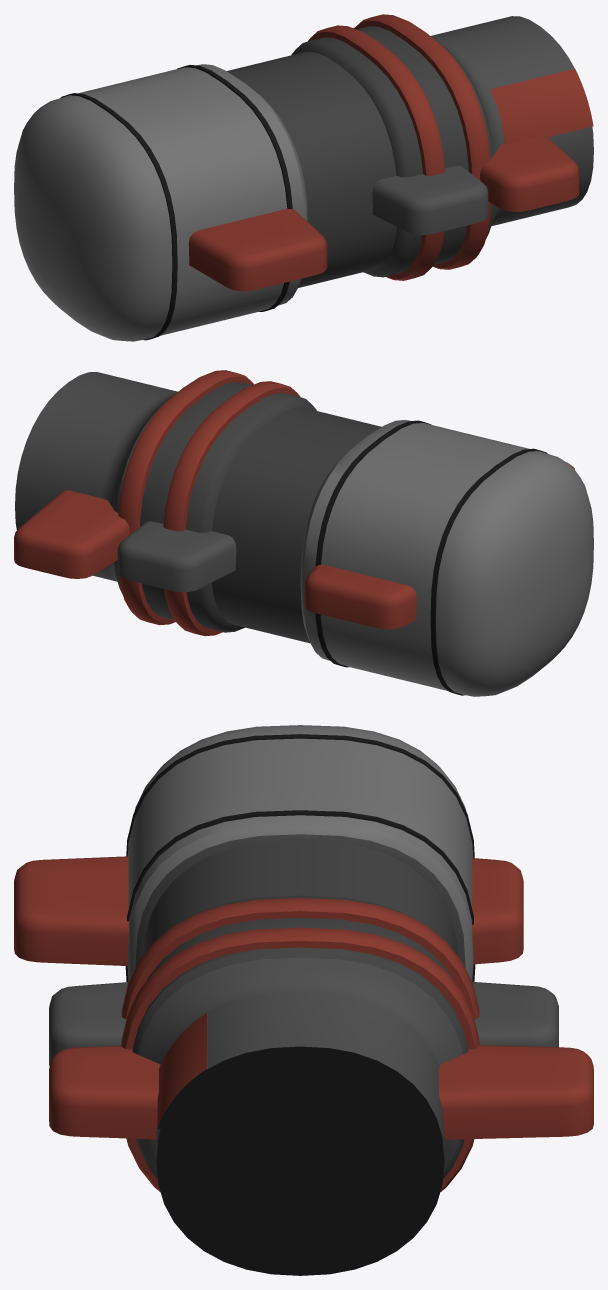
File: longship_left.glb
3 views of the same model, one above another, from view 1: azimuth 30°, elevation 25°; view 2: azimuth 150°, elevation 25°; view 3: azimuth 270°, elevation 25° (orthographic). The views are drawn at different scales.
Parts seen in each view (by area): view 1: beam.001, pod_fin_f_l.001, housing_fin_f_l.001, housing_tip_f_l.001, ring11.001, band_lower.001, ring10.001, pod_seam10.001, pod_seam11.001; view 2: beam.001, housing_tip_r_l.001, housing_fin_r_l.001, ring11.001, pod_fin_r_l.001, ring10.001, pod_seam10.001, pod_seam11.001; view 3: beam.001, housing_tip_r_l.001, pod_fin_f_l.001, ring11.001, housing_tip_f_l.001, ring10.001, pod_fin_r_l.001, housing_fin_r_l.001, housing_fin_f_l.001, band_lower.001, pod_seam11.001, pod_seam10.001.
Boxes of the visible parts, x1,y1,x2,y2 form: beam.001: (14, 16, 593, 341); pod_fin_f_l.001: (188, 208, 327, 291); housing_fin_f_l.001: (372, 166, 488, 234); housing_tip_f_l.001: (480, 135, 579, 211); ring11.001: (354, 14, 490, 269); band_lower.001: (489, 68, 593, 143); ring10.001: (308, 25, 445, 280); pod_seam10.001: (60, 93, 177, 340); pod_seam11.001: (177, 64, 292, 311); beam.001: (15, 372, 593, 696); housing_tip_r_l.001: (14, 490, 129, 578); housing_fin_r_l.001: (117, 521, 236, 592); ring11.001: (118, 370, 253, 625); pod_fin_r_l.001: (304, 564, 416, 629); ring10.001: (163, 381, 300, 636); pod_seam10.001: (430, 448, 547, 695); pod_seam11.001: (315, 420, 431, 667); beam.001: (127, 725, 473, 1275); housing_tip_r_l.001: (438, 1045, 593, 1139); pod_fin_f_l.001: (14, 856, 128, 965); ring11.001: (121, 927, 479, 1191); housing_tip_f_l.001: (49, 1046, 160, 1139); ring10.001: (121, 898, 479, 1019); pod_fin_r_l.001: (472, 858, 523, 964); housing_fin_r_l.001: (472, 982, 558, 1047); housing_fin_f_l.001: (49, 982, 128, 1065); band_lower.001: (157, 1013, 215, 1131); pod_seam11.001: (125, 810, 475, 981); pod_seam10.001: (126, 734, 474, 857).
Bounding box in the file's own units: 21.69 × 9.3 × 16.5.
